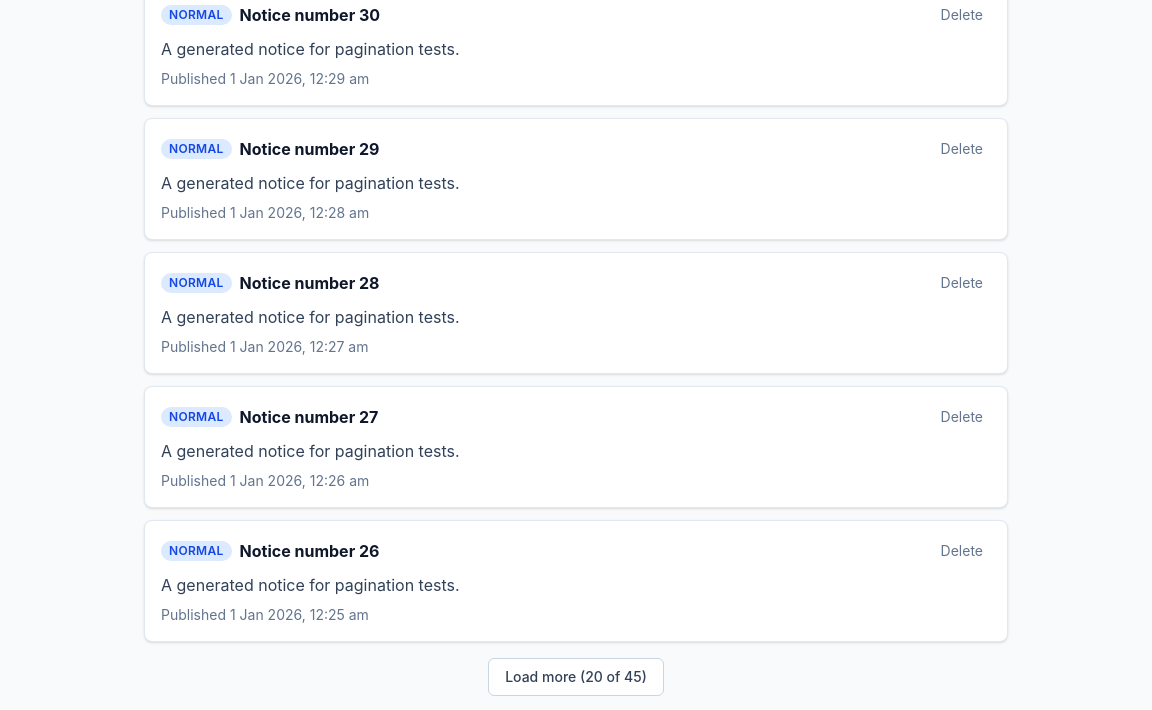
Test case: NoticeBoard › loads more notices page by page
The image size is (1152, 710).
(page scrolled)
Click the button "Load more (20 of 45)" at (576, 677), box x1=488 y1=658 x2=664 y2=696
(page scrolled)
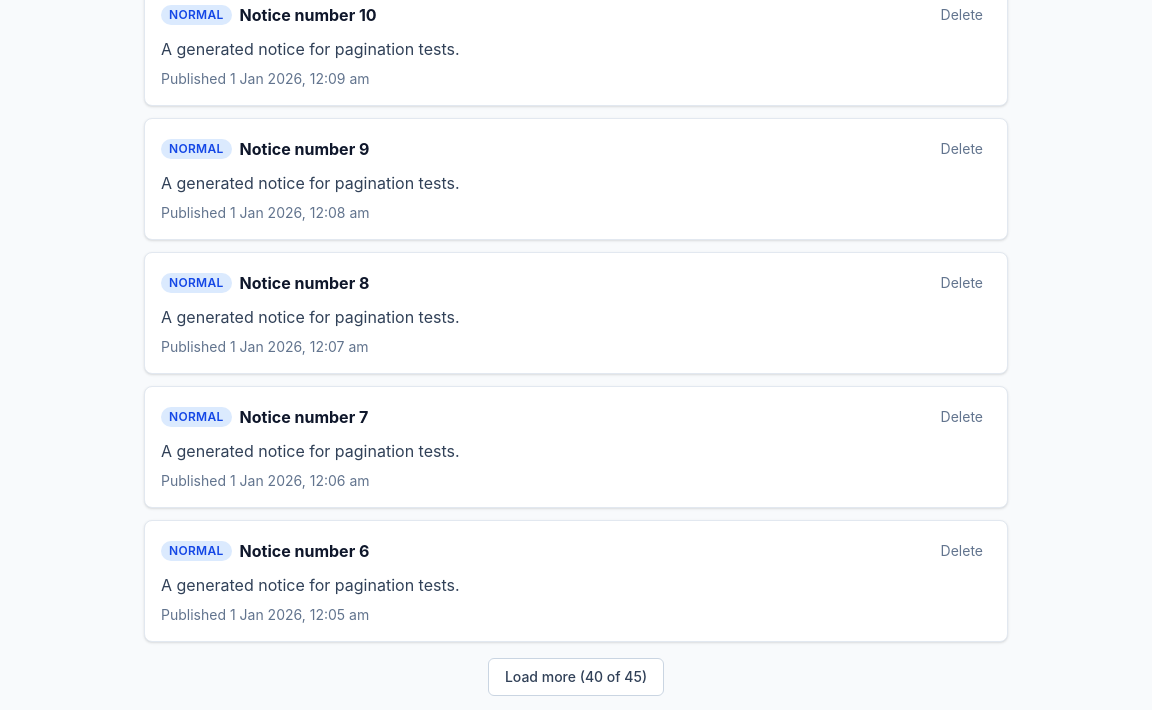
Check: the button "Load more (40 of 45)" is shown
Click the button "Load more (40 of 45)" at (576, 677), box x1=488 y1=658 x2=664 y2=696
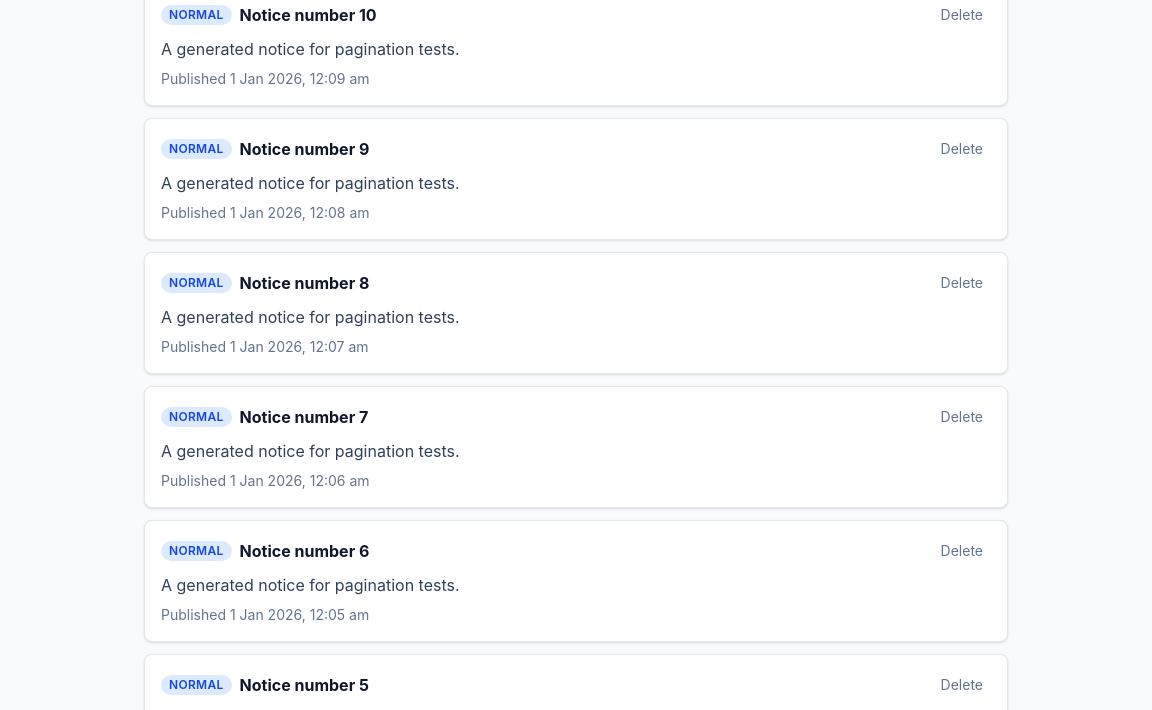
Check: the button "Load more" is gone
